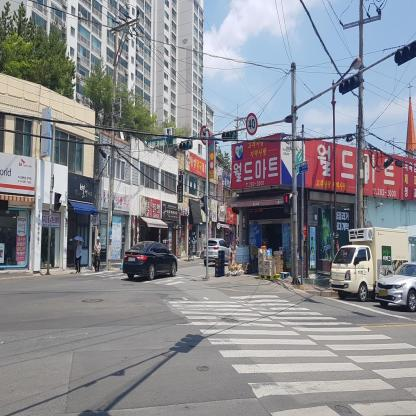Red: (284, 193, 290, 214)
